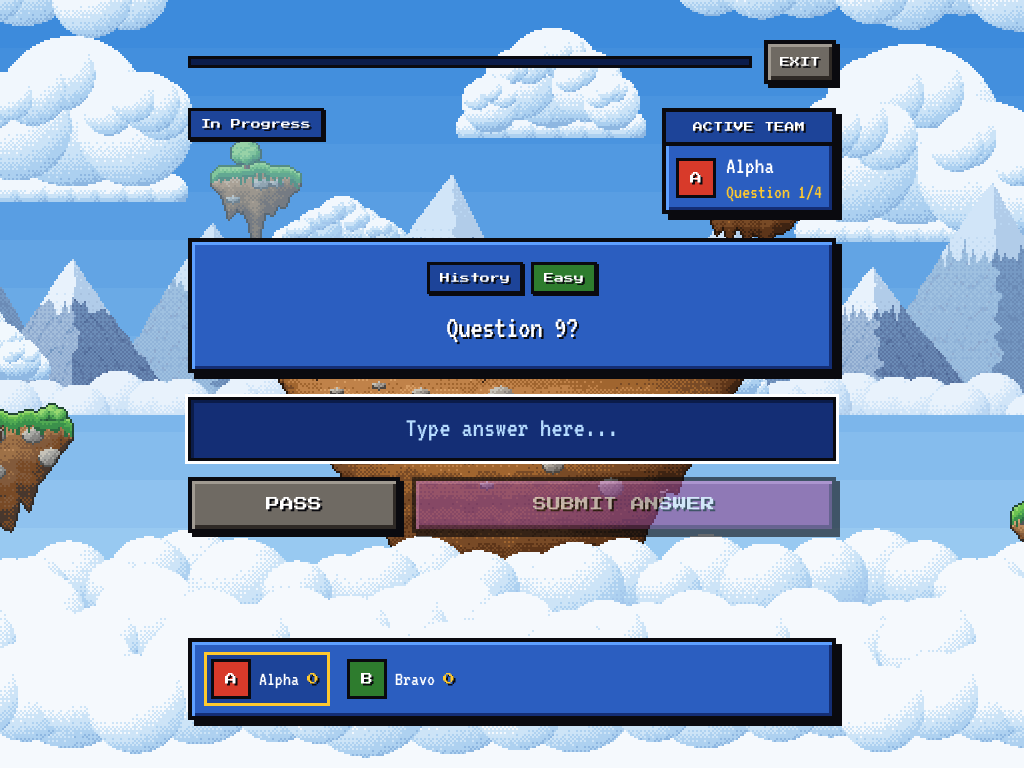
Pixel solo game › passes a question
This screenshot has width=1024, height=768.
Click the button "Pass". click: x=294, y=505
box: [188, 477, 400, 533]
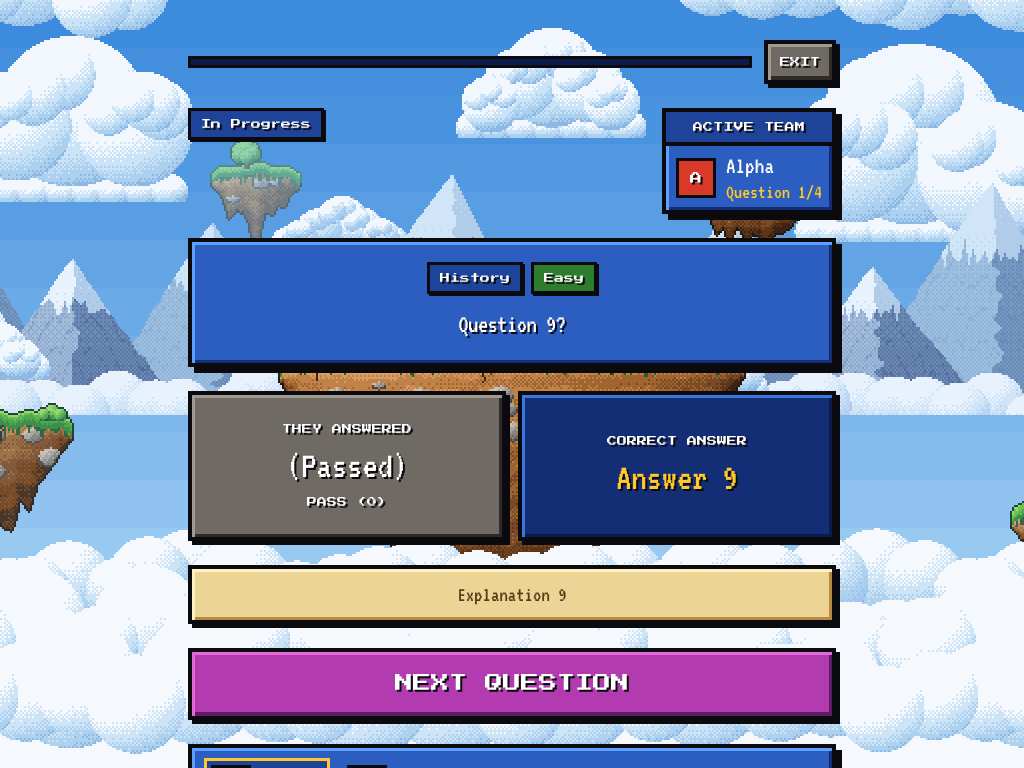
expect the text "(Passed)" is shown: met, box [286, 447, 408, 485]
